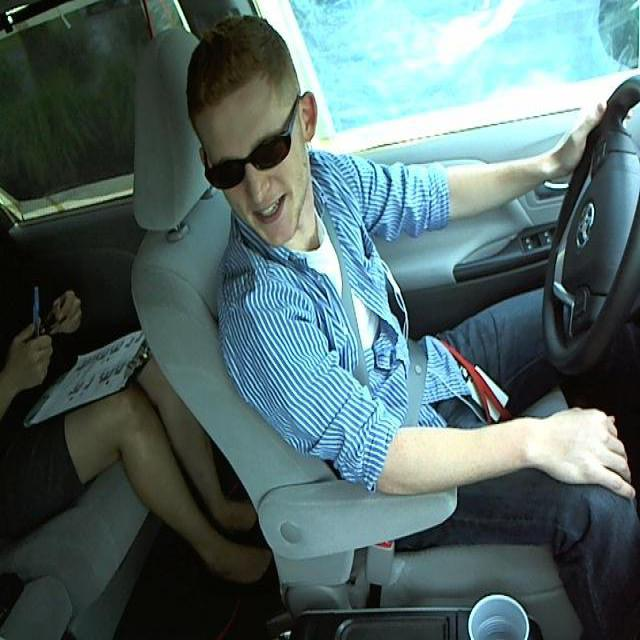seatbelt: (328, 224, 447, 436)
